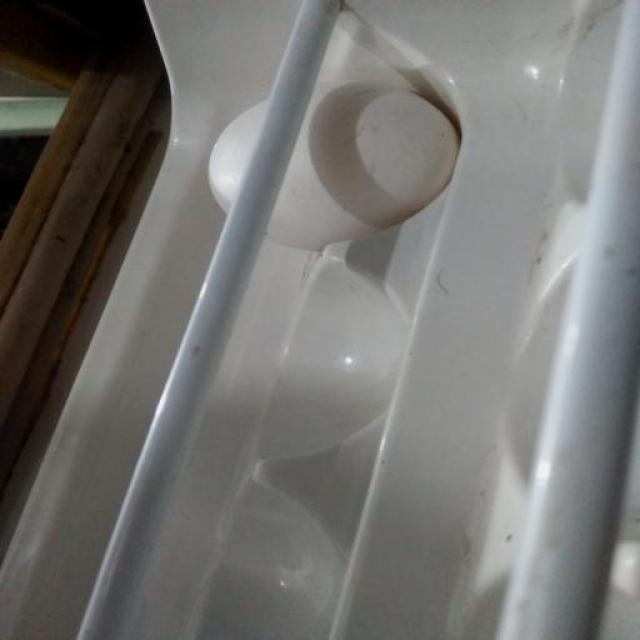telur: (203, 72, 467, 254)
